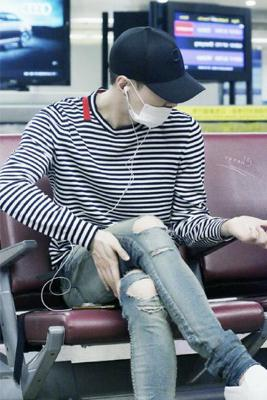mask_weared_incorrect: (129, 84, 177, 131)
